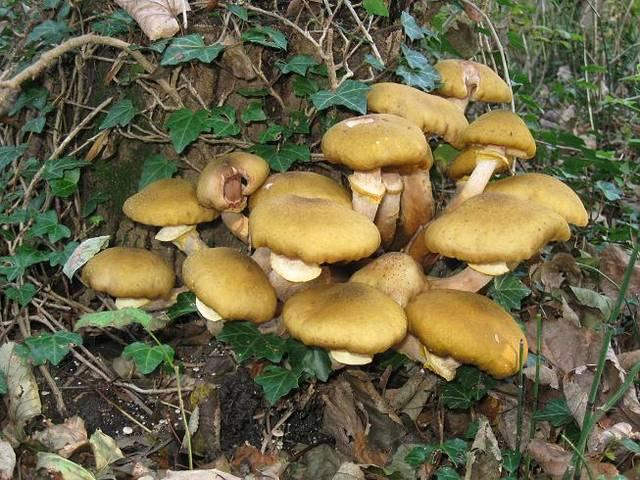edible_mushroom: (80, 57, 588, 382)
